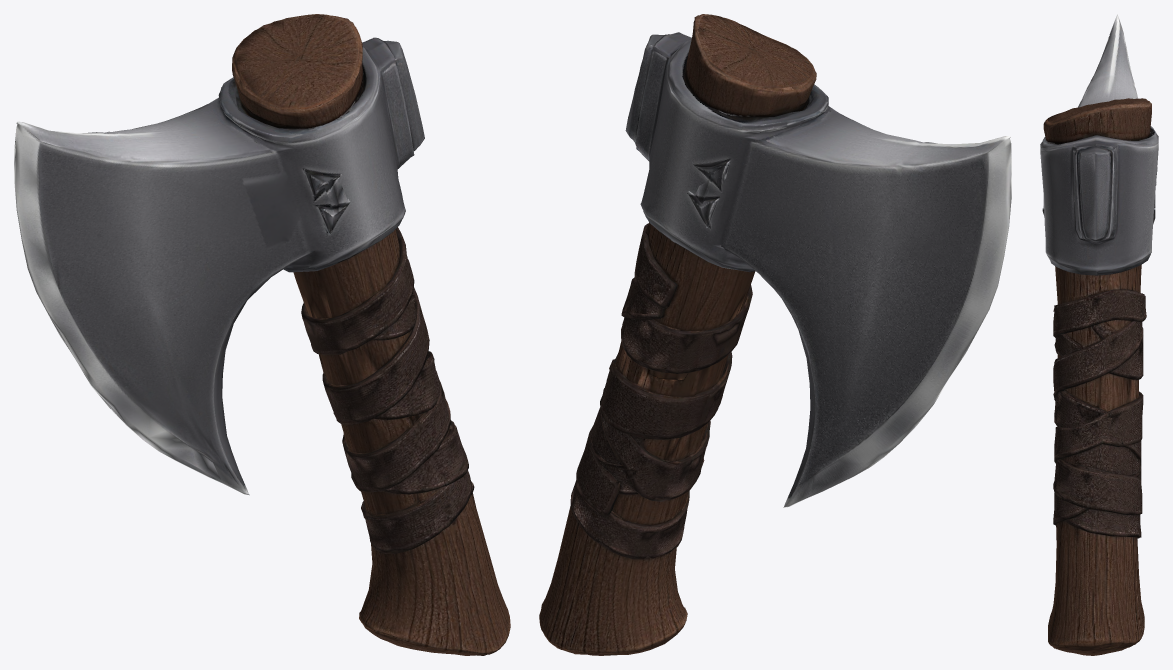
File: decent_axe.fbx
3 renders of one model, left to right at view 1: azimuth 30°, elevation 25°; view 2: azimuth 150°, elevation 25°; view 3: azimuth 270°, elevation 25°, orthographic. The views are drawn at different scales.
Visible parts, largest first — view 1: tripo_node_af681362; view 2: tripo_node_af681362; view 3: tripo_node_af681362.
Part boxes in pixels (box(x1,y1,x2,y2)): tripo_node_af681362: box(14, 14, 510, 655); tripo_node_af681362: box(539, 14, 1011, 655); tripo_node_af681362: box(1040, 14, 1158, 655).
Size of the model in its own units: 0.7598 by 0.998 by 0.2129.
1 material, 1 textured.
